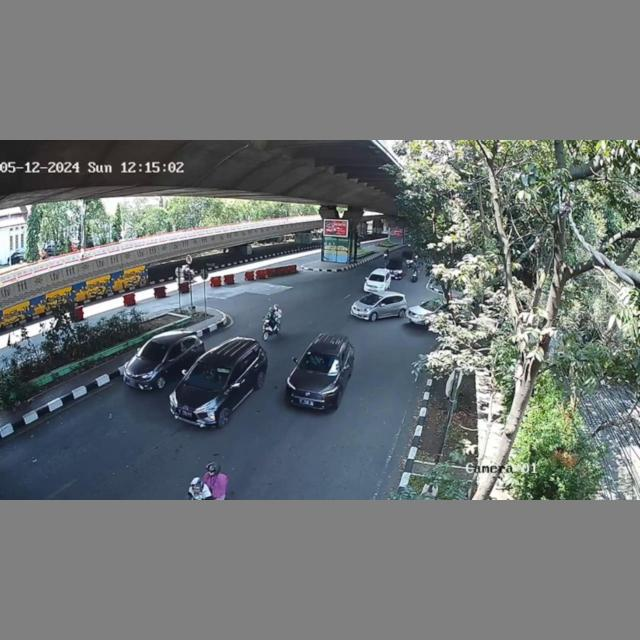windshield: (185, 361, 230, 393), (298, 351, 339, 376), (137, 341, 168, 363)
